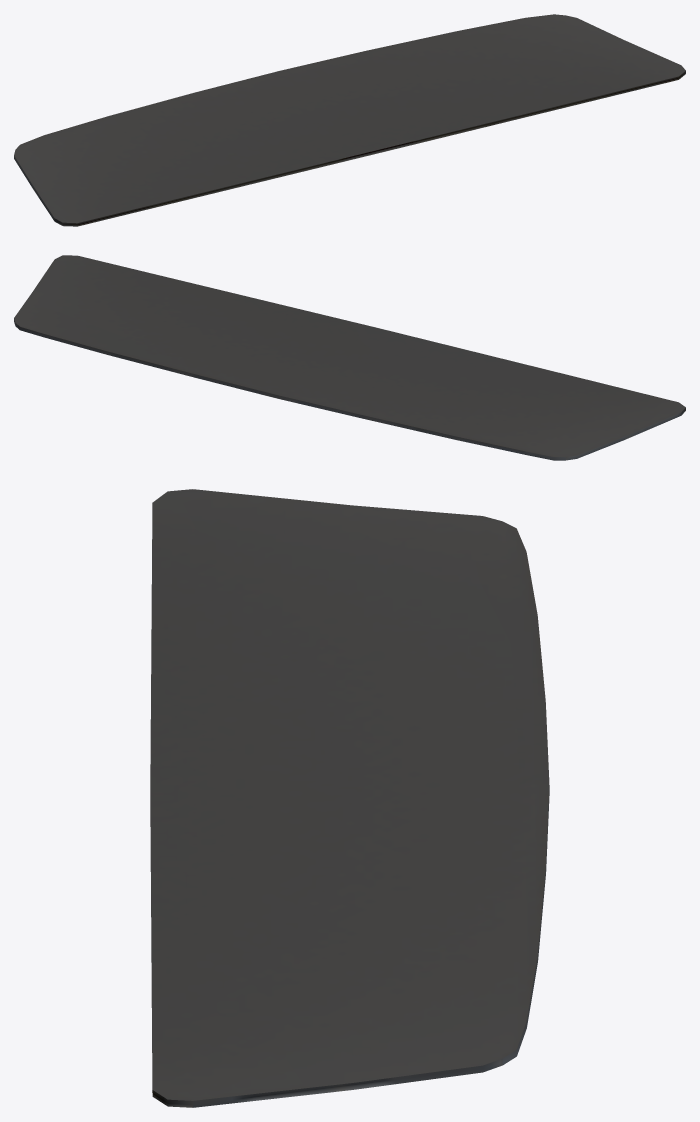
File: FordF700RearWindshield_WorldItem.fbx
The picture shows the model from 3 angles, top to bottom: view 1: azimuth 30°, elevation 25°; view 2: azimuth 150°, elevation 25°; view 3: azimuth 270°, elevation 25°; orthographic projection. The views are drawn at different scales.
Parts seen in each view (by area): view 1: RearWindshield_obj; view 2: RearWindshield_obj; view 3: RearWindshield_obj.
Part boxes in pixels (<box>): RearWindshield_obj: <box>14,14,685,226</box>; RearWindshield_obj: <box>14,255,685,460</box>; RearWindshield_obj: <box>150,489,549,1107</box>.
Bounding box in the file's own units: 2.14 × 0.0313 × 0.5895.
